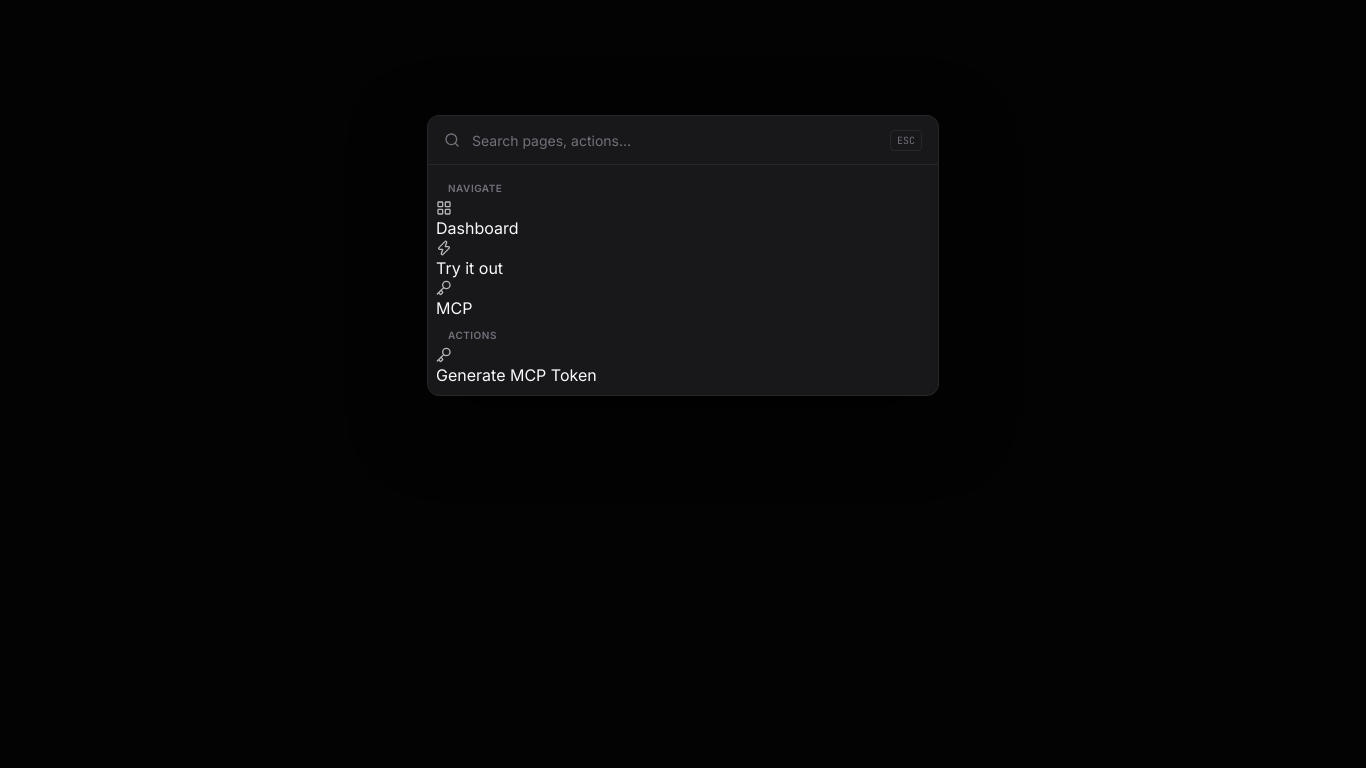
Test: CommandPalette › typing a query matching nothing shows an explicit "No results" row
Type "zzzzz-no-match" into the field with placeholder "Search pages, actions…".
click(675, 140); type("zzzzz-no-match")  # box [472, 116, 878, 164]
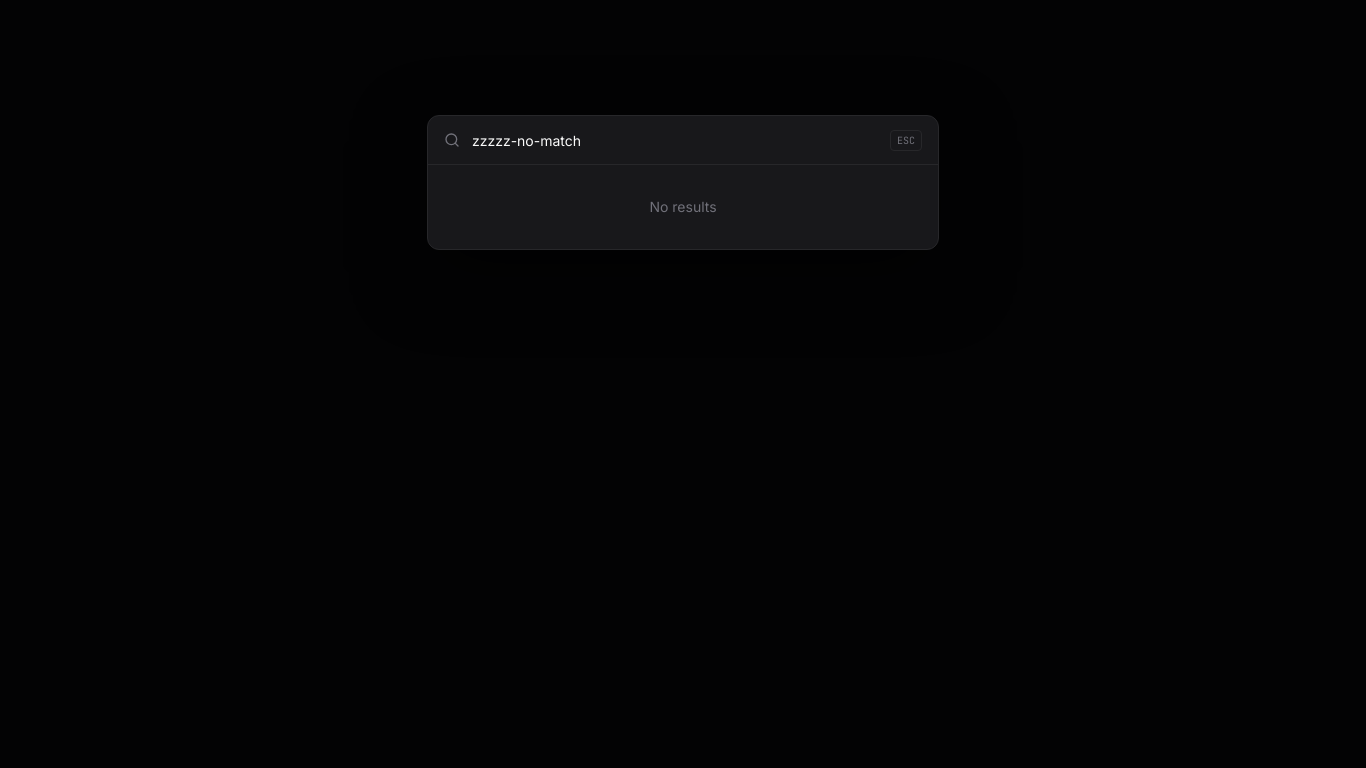
Expected: the text "No results" is shown, [649, 198, 717, 215]
Expected: the button "Dashboard" is gone
